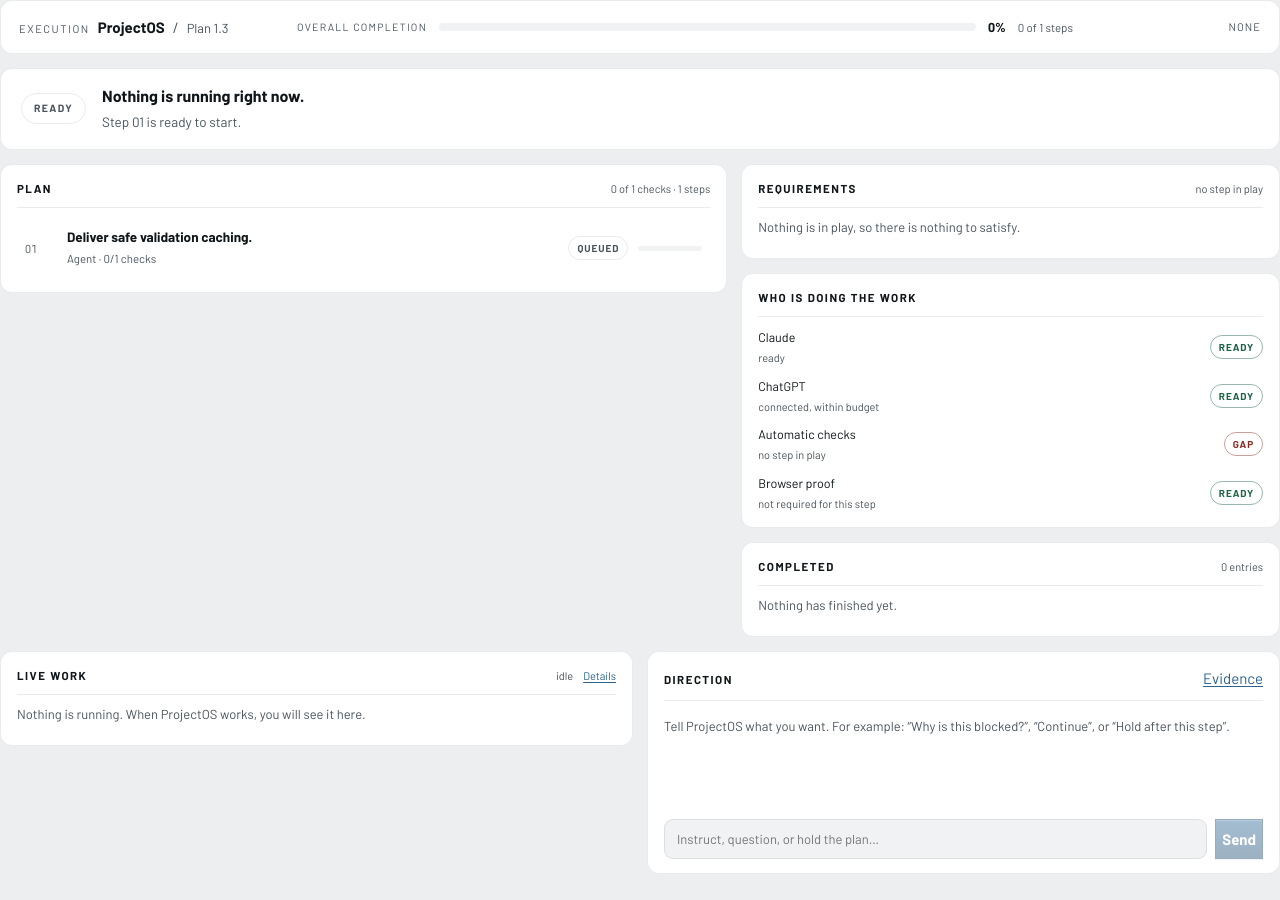
Test: Direction asks a second question, then actually sends › cancelling the second question sends nothing
The width and height of the screenshot is (1280, 900).
In the field named "Tell ProjectOS what you want": (936,839) [664,819,1207,859], type "approve the plan"
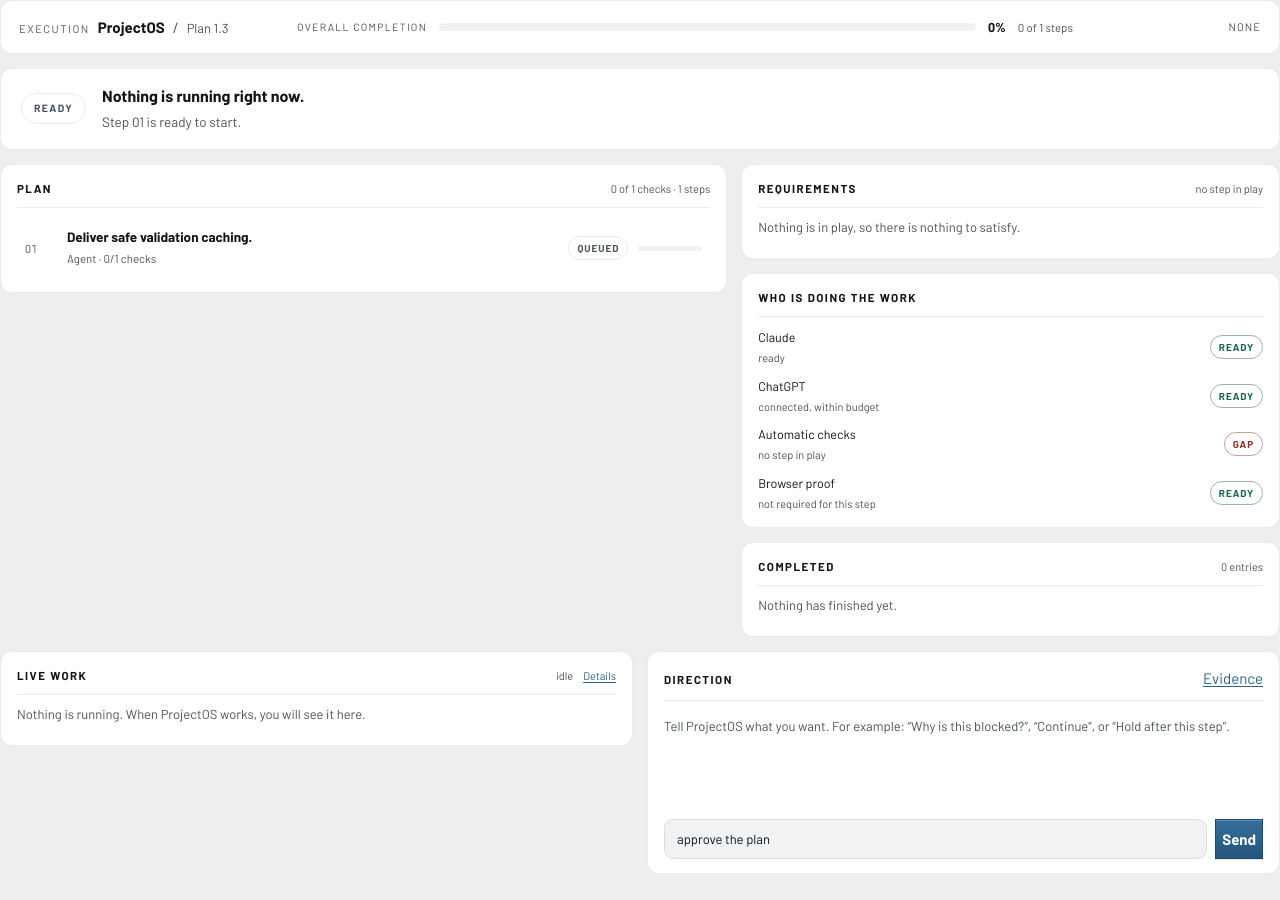
Click the button "Send": (1239,839) [1215,819,1263,859]
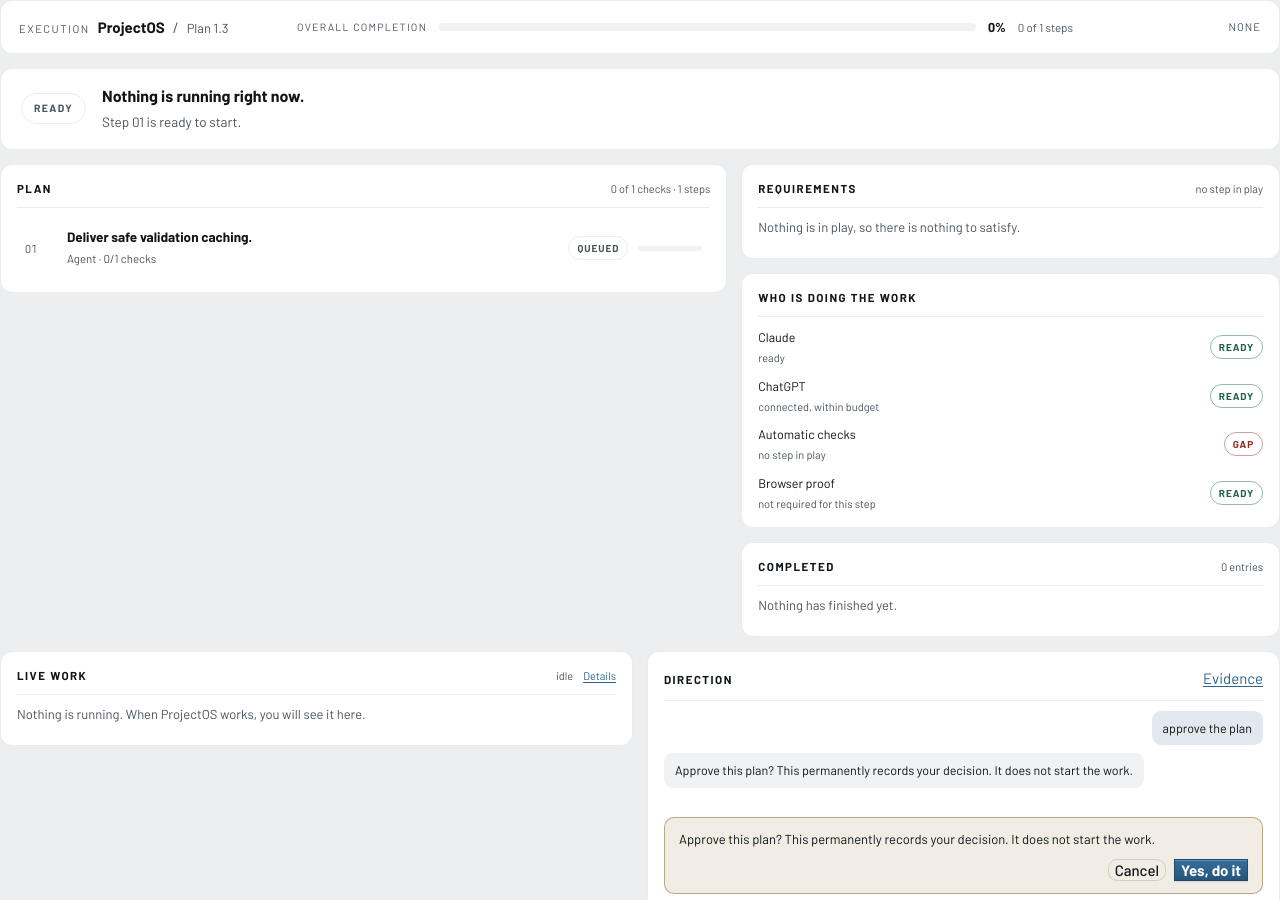
Now the button "Cancel" is shown
Click the button "Cancel": (1137,870) [1108,859,1166,881]
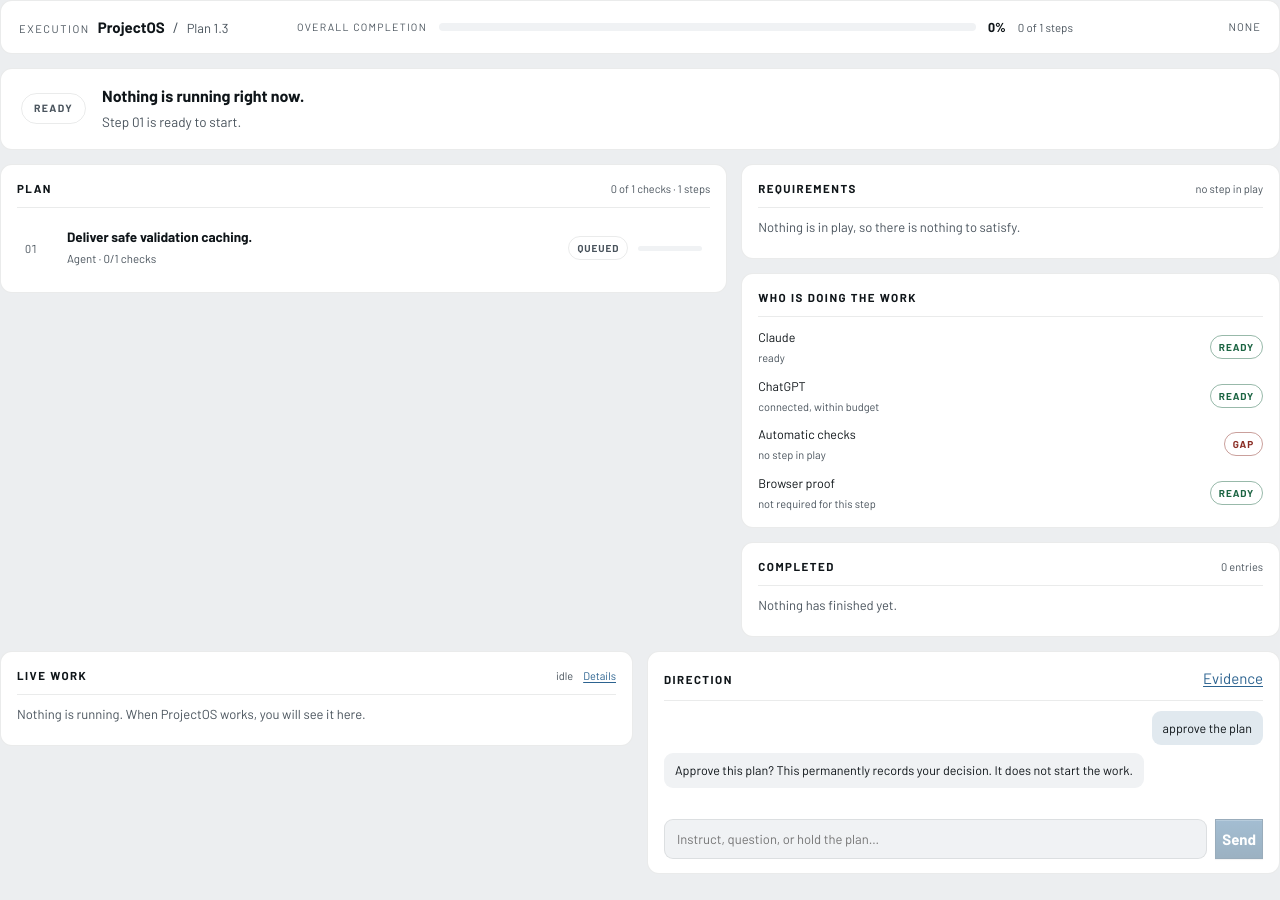
Now the button "Yes, do it" is gone
